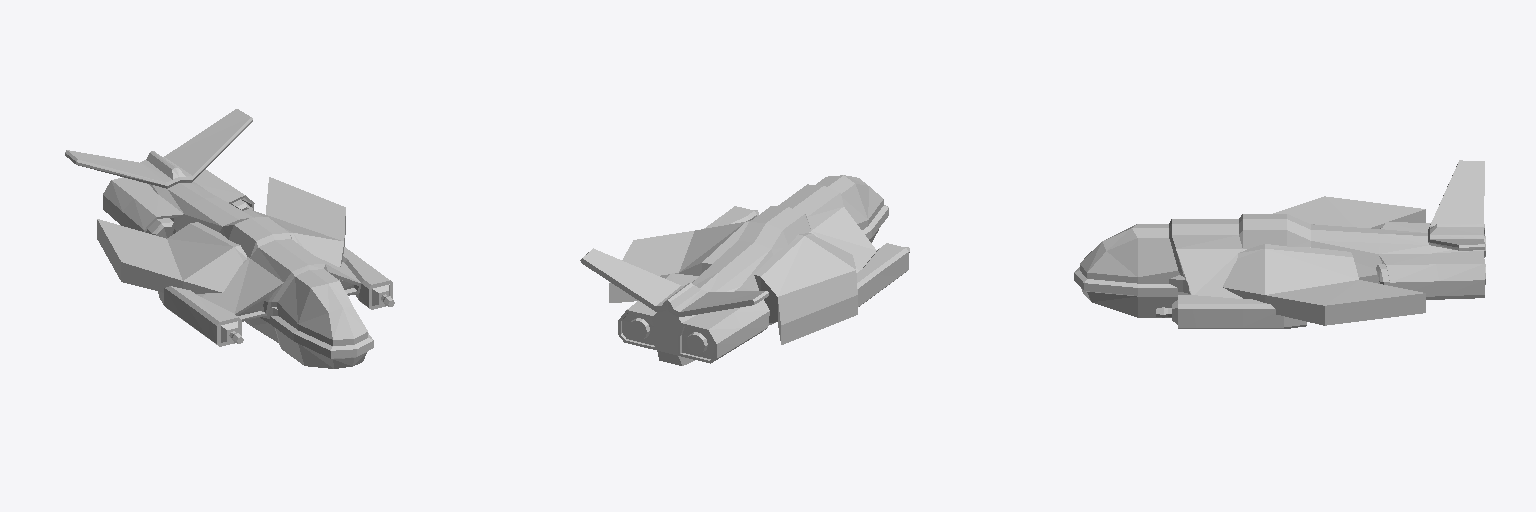
Rendered from starship.obj.
The picture shows the model from 3 angles: view 1: azimuth 30°, elevation 25°; view 2: azimuth 150°, elevation 25°; view 3: azimuth 270°, elevation 25°; orthographic projection.
Parts seen in each view (by area): view 1: spaceship4, spaceship; view 2: spaceship4, spaceship; view 3: spaceship4, spaceship.
Part boxes in pixels (x1,y1,x2,y2): spaceship4: (65,109,394,368); spaceship: (97,177,345,318); spaceship4: (580,175,909,365); spaceship: (609,221,857,344); spaceship4: (1074,160,1485,328); spaceship: (1169,196,1425,325).
Size of the model in its own units: 1.3 by 0.5796 by 2.06.